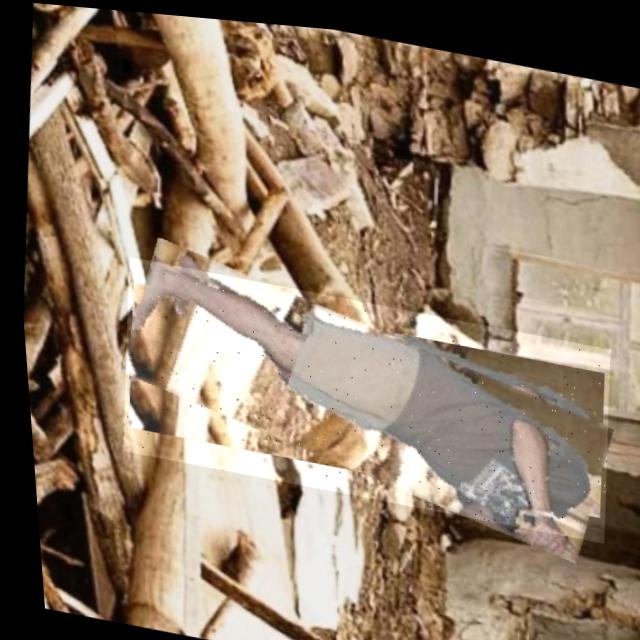Person in Rubble: (103, 253, 616, 534)
